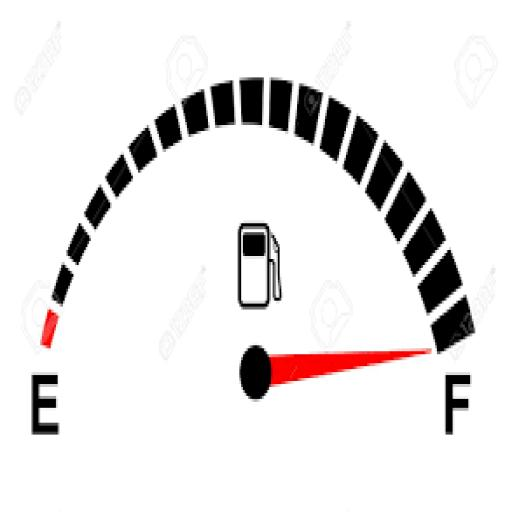empty: (24, 364, 68, 445)
fuel_icon: (231, 210, 289, 322)
full: (440, 368, 474, 438)
guage_area: (0, 0, 510, 512)
needle_center: (234, 336, 296, 408)
needle_tip: (385, 335, 432, 377)
